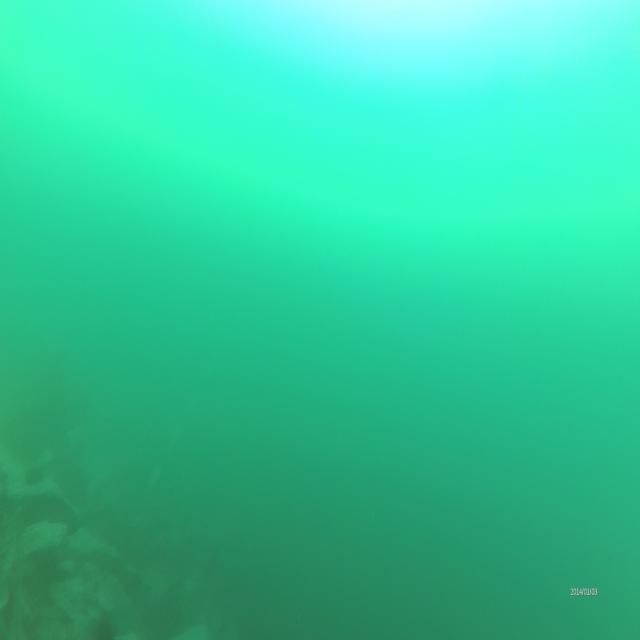echinus: (62, 506, 84, 540), (23, 462, 44, 486)
